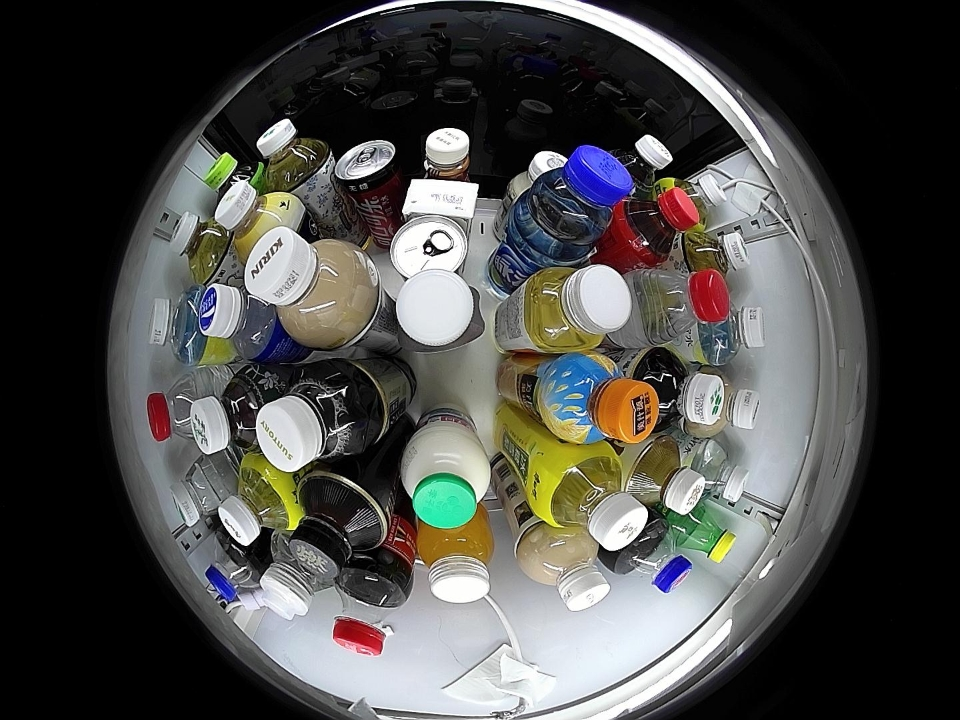asamu: (215, 184, 298, 256)
baicha: (257, 119, 331, 190), (169, 212, 234, 284), (684, 229, 751, 280)
baishikele-2: (614, 519, 692, 594), (205, 537, 265, 601)
baokuangli: (198, 283, 281, 362)
binghongcha: (618, 186, 700, 264)
bingtangxueli: (537, 446, 648, 552), (217, 456, 302, 546), (670, 169, 725, 228)
chapai2: (525, 264, 632, 352)
damaicha: (633, 349, 723, 433)
guolicheng: (542, 353, 657, 445)
jianjiao: (258, 539, 336, 621)
jindian: (401, 178, 479, 222)
kafei: (418, 127, 473, 182)
kele-b: (331, 567, 410, 657)
lingdukele: (335, 139, 403, 201)
liziyuan: (399, 423, 492, 530)
maidong: (523, 144, 632, 252)
moliqingcha: (190, 367, 276, 455)
nongfushanquan: (637, 266, 728, 344), (147, 371, 208, 443)
qinningshui: (151, 288, 213, 366), (701, 301, 766, 365), (689, 439, 750, 505)
rancha-1: (288, 472, 391, 578)
rancha-2: (625, 437, 705, 515)
weic: (416, 514, 495, 604)
weiweidounai: (506, 151, 572, 198)
wuhounaicha: (244, 227, 379, 348), (520, 528, 610, 612), (698, 368, 761, 436)
wulongcha: (257, 364, 371, 472), (613, 135, 673, 195)
xuebi-b: (675, 505, 737, 565)
yezhi: (389, 216, 470, 278)
yibao: (169, 455, 229, 527)
yitengyuan: (204, 150, 264, 205)
youyanggudong: (392, 269, 484, 354)
